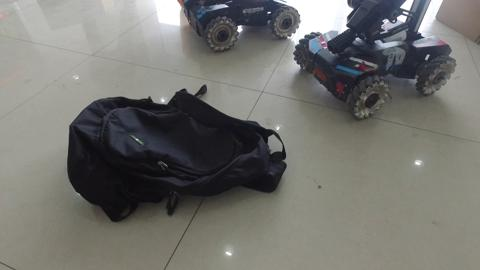bag: (66, 94, 294, 221)
chariot: (299, 2, 457, 123), (179, 2, 305, 47)
